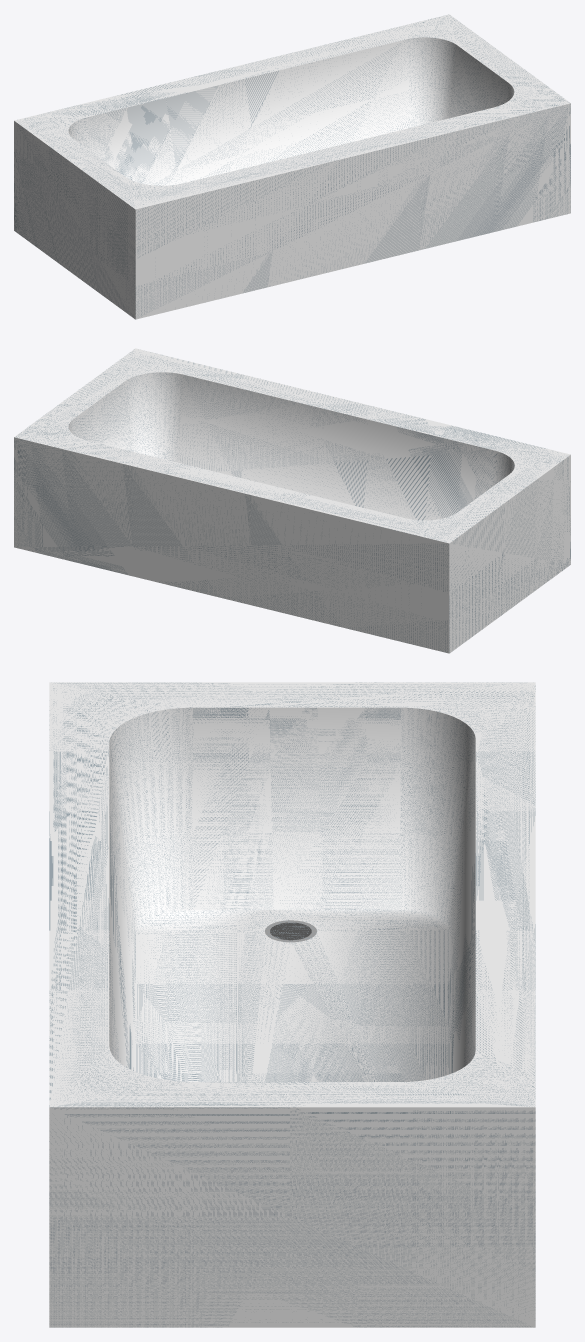
3 renders of one model, top to bottom at view 1: azimuth 30°, elevation 25°; view 2: azimuth 150°, elevation 25°; view 3: azimuth 270°, elevation 25°, orthographic. The views are drawn at different scales.
Parts seen in each view (by area): view 1: SketchUp; view 2: SketchUp; view 3: SketchUp.
Boxes of the visible parts, box(x1,y1,x2,y2) form: SketchUp: box(14, 14, 570, 319); SketchUp: box(14, 348, 570, 653); SketchUp: box(49, 682, 535, 1327).
Size of the model in its own units: 60 by 29 by 14.5.
